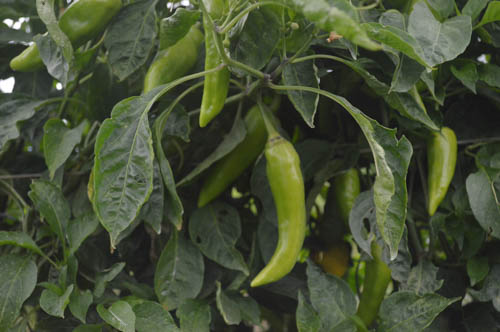ChiliPepper: (6, 2, 121, 79), (250, 147, 307, 289), (194, 109, 258, 209), (199, 4, 231, 135), (140, 33, 199, 96), (421, 126, 458, 215), (357, 241, 394, 325), (329, 168, 365, 231)
